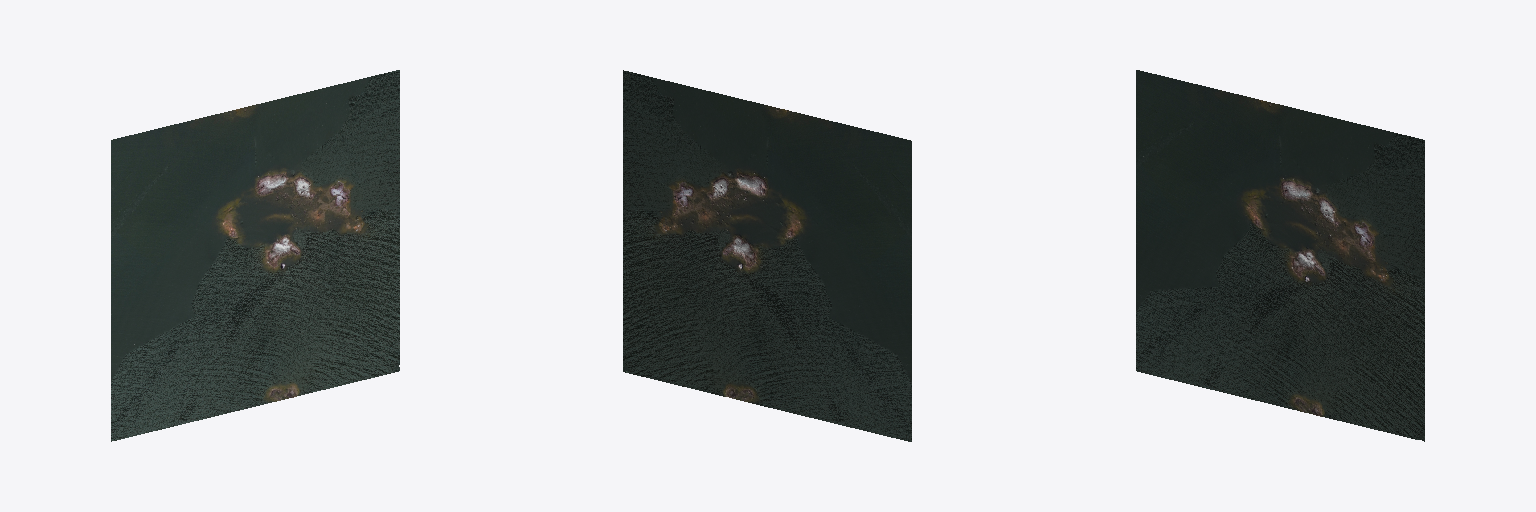
3 views of the same model, side by side, from view 1: azimuth 30°, elevation 25°; view 2: azimuth 150°, elevation 25°; view 3: azimuth 330°, elevation 25° (orthographic).
Bounding box in the file's own units: 252 × 252 × 3.01.
Materials: 2 (1 with a texture image).